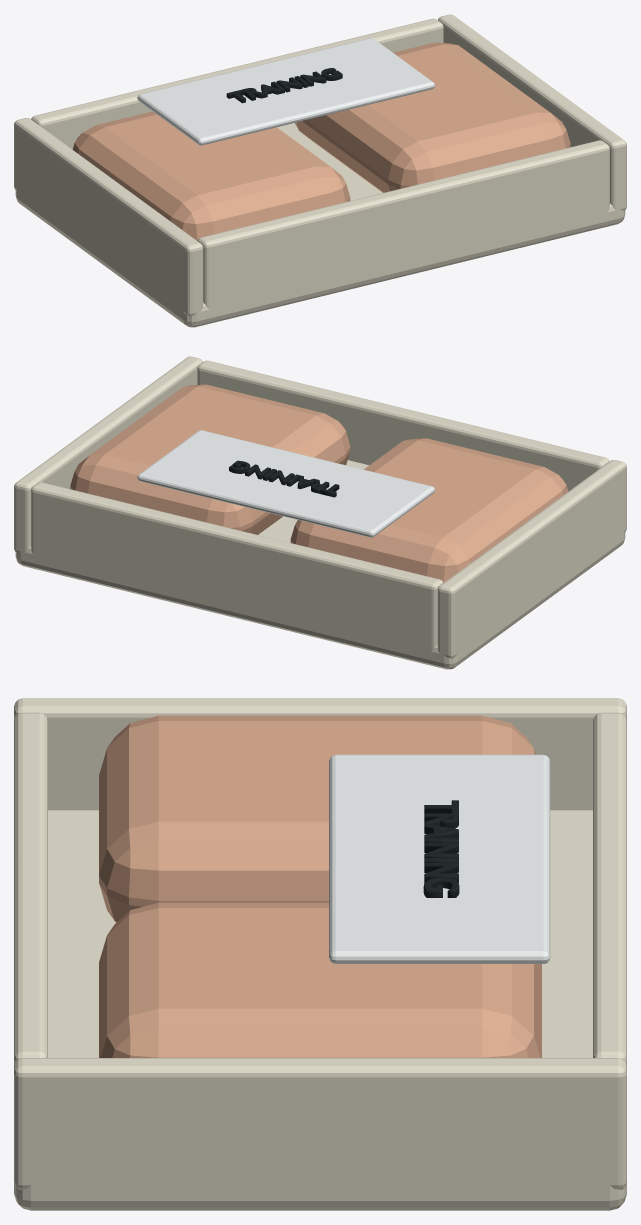
Rendered from food_product_load.glb.
3 views of the same model, one above another, from view 1: azimuth 30°, elevation 25°; view 2: azimuth 150°, elevation 25°; view 3: azimuth 270°, elevation 25° (orthographic). The views are drawn at different scales.
Parts seen in each view (by area): view 1: FOOD_TRAY_side_-0.17, FOOD_PORTION_0.13, FOOD_PORTION_-0.13, FOOD_TRAY_end_-0.25, FOOD_TRAY_demo_label, FOOD_TRAY_bottom, FOOD_TRAY_end_0.25, FOOD_TRAY_side_0.17, FOOD_TRAY_demo_text; view 2: FOOD_TRAY_side_0.17, FOOD_PORTION_-0.13, FOOD_PORTION_0.13, FOOD_TRAY_end_-0.25, FOOD_TRAY_demo_label, FOOD_TRAY_side_-0.17, FOOD_TRAY_bottom, FOOD_TRAY_end_0.25, FOOD_TRAY_demo_text; view 3: FOOD_TRAY_end_0.25, FOOD_PORTION_0.13, FOOD_PORTION_-0.13, FOOD_TRAY_demo_label, FOOD_TRAY_bottom, FOOD_TRAY_end_-0.25, FOOD_TRAY_side_0.17, FOOD_TRAY_side_-0.17, FOOD_TRAY_demo_text.
Part boxes in pixels (x1,y1,x2,y2): FOOD_TRAY_side_-0.17: (197, 140, 609, 309); FOOD_PORTION_0.13: (295, 42, 570, 192); FOOD_PORTION_-0.13: (72, 111, 350, 240); FOOD_TRAY_end_-0.25: (14, 118, 203, 316); FOOD_TRAY_demo_label: (137, 38, 434, 145); FOOD_TRAY_bottom: (15, 123, 625, 327); FOOD_TRAY_end_0.25: (438, 14, 626, 210); FOOD_TRAY_side_0.17: (31, 18, 443, 149); FOOD_TRAY_demo_text: (226, 68, 342, 103); FOOD_TRAY_side_0.17: (31, 482, 443, 651); FOOD_PORTION_-0.13: (290, 438, 568, 582); FOOD_PORTION_0.13: (70, 384, 350, 534); FOOD_TRAY_end_-0.25: (437, 460, 626, 658); FOOD_TRAY_demo_label: (137, 430, 434, 537); FOOD_TRAY_side_-0.17: (197, 360, 609, 491); FOOD_TRAY_bottom: (15, 460, 625, 669); FOOD_TRAY_end_0.25: (14, 356, 202, 552); FOOD_TRAY_demo_text: (229, 460, 339, 497); FOOD_TRAY_end_0.25: (14, 1058, 626, 1189); FOOD_PORTION_0.13: (99, 902, 541, 1057); FOOD_PORTION_-0.13: (99, 715, 535, 922); FOOD_TRAY_demo_label: (329, 754, 550, 963); FOOD_TRAY_bottom: (14, 810, 626, 1210); FOOD_TRAY_end_-0.25: (14, 698, 626, 810); FOOD_TRAY_side_0.17: (593, 712, 626, 1065); FOOD_TRAY_side_-0.17: (14, 712, 47, 1065); FOOD_TRAY_demo_text: (423, 800, 459, 897).
Size of the model in its own units: 0.52 by 0.119 by 0.36.
